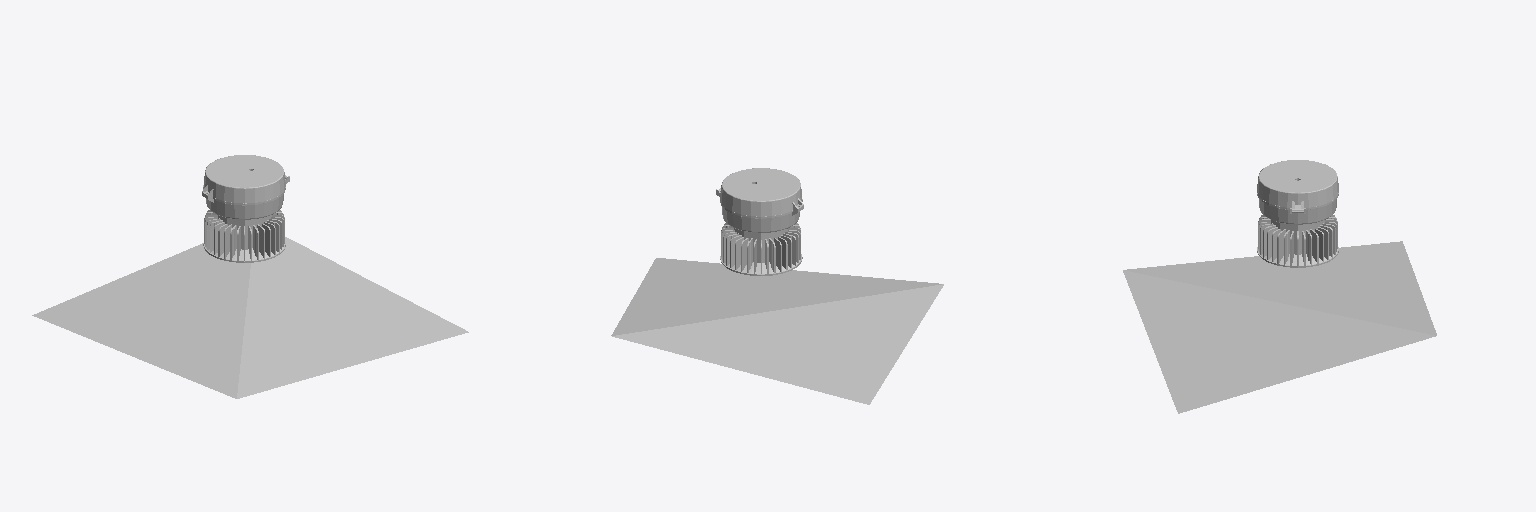
Rendered from sample3.obj.
3 views of the same model, side by side, from view 1: azimuth 30°, elevation 25°; view 2: azimuth 150°, elevation 25°; view 3: azimuth 270°, elevation 25° (orthographic).
Parts seen in each view (by area): view 1: Plane, sample; view 2: Plane, sample; view 3: Plane, sample.
Boxes of the visible parts, x1=… form: Plane: x1=32, y1=237, x2=468, y2=398; sample: x1=202, y1=155, x2=289, y2=262; Plane: x1=611, y1=258, x2=943, y2=404; sample: x1=716, y1=168, x2=803, y2=275; Plane: x1=1123, y1=241, x2=1436, y2=413; sample: x1=1257, y1=160, x2=1338, y2=267.
Bounding box in the file's own units: 46.09 × 21.27 × 38.62.